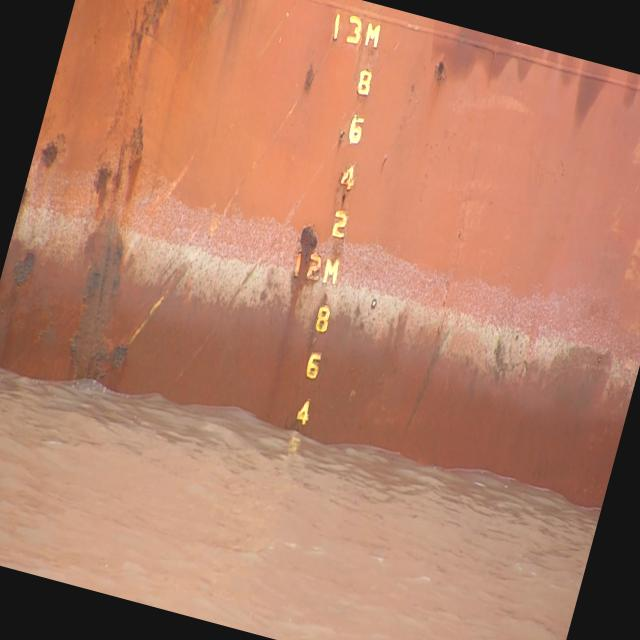Ship Draft Marks: (343, 15, 365, 44), (321, 256, 342, 286), (329, 209, 350, 239), (353, 67, 374, 97), (304, 252, 324, 282), (346, 115, 366, 145), (338, 163, 358, 192), (313, 304, 332, 334), (304, 350, 322, 380), (294, 398, 312, 427), (362, 22, 382, 48), (330, 13, 342, 40), (292, 252, 304, 278), (286, 435, 300, 454)
